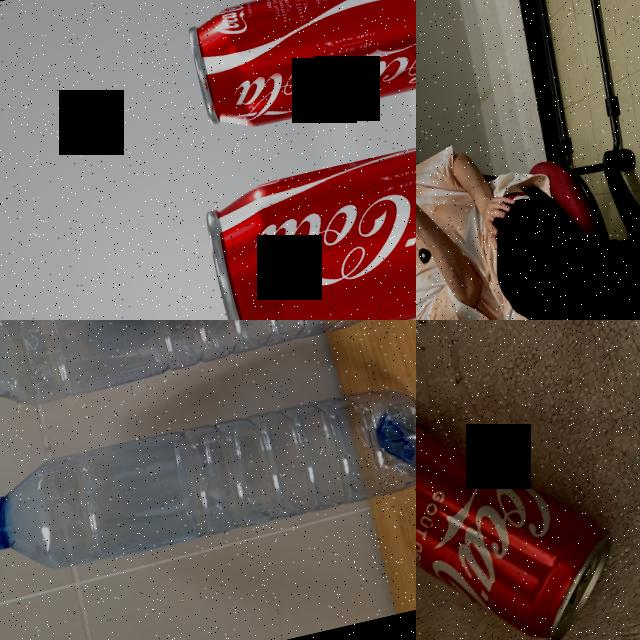bottle: (0, 372, 416, 597), (0, 320, 398, 433)
can: (416, 340, 634, 640), (199, 104, 416, 320), (183, 0, 416, 137)
